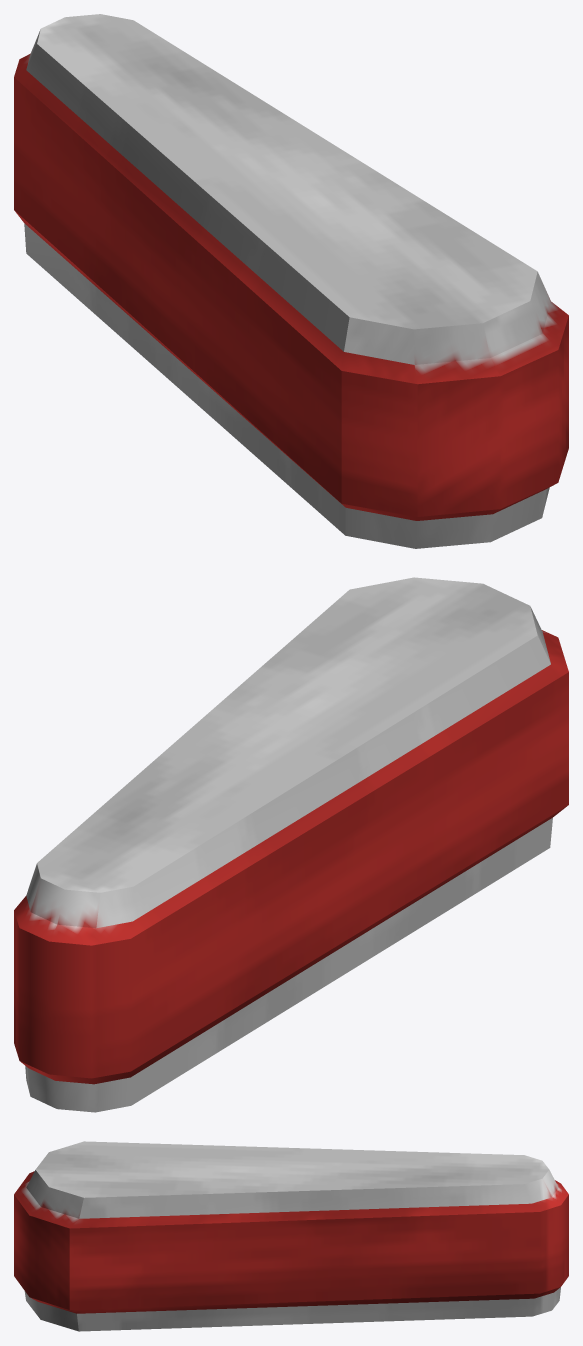
Rendered from paddle.obj.
3 views of the same model, one above another, from view 1: azimuth 30°, elevation 25°; view 2: azimuth 150°, elevation 25°; view 3: azimuth 270°, elevation 25° (orthographic). The views are drawn at different scales.
Parts seen in each view (by area): view 1: Cylinder; view 2: Cylinder; view 3: Cylinder.
Boxes of the visible parts, <box> form: Cylinder: <box>14,14,568,548</box>; Cylinder: <box>14,577,568,1112</box>; Cylinder: <box>14,1141,568,1331</box>.
Size of the model in its own units: 0.0331 by 0.0297 by 0.1138.
